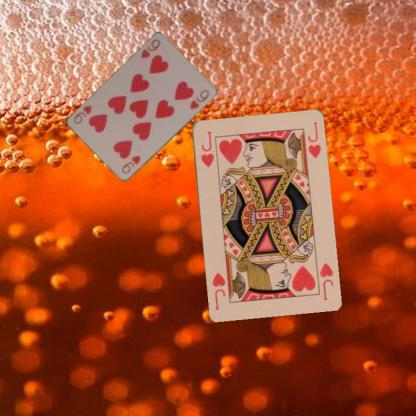9h: (138, 36, 162, 60), (118, 153, 142, 175)
Jh: (313, 258, 334, 302), (198, 128, 215, 168)
